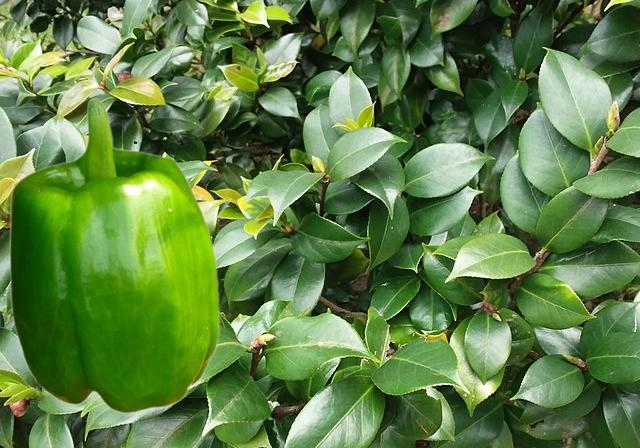bell_pepper: (8, 97, 219, 413)
